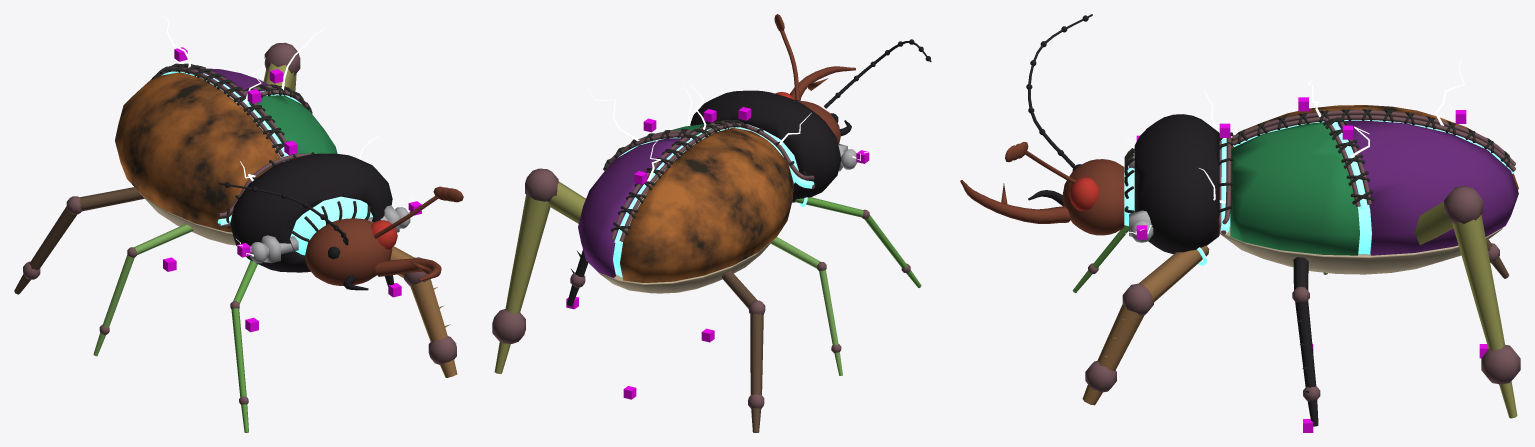
File: 02_franken_scarabeo.glb
3 views of the same model, side by side, from view 1: azimuth 30°, elevation 25°; view 2: azimuth 150°, elevation 25°; view 3: azimuth 270°, elevation 25° (orthographic). The views are drawn at different scales.
Parts seen in each view (by area): view 1: FrankenScarabeo__Elitra_Coccinella, FrankenScarabeo__Pronoto_Cervo, FrankenScarabeo__Testa, FrankenScarabeo__Cicatrici, FrankenScarabeo__Elitra_Smeraldo, FrankenScarabeo__Filo_Sutura, FrankenScarabeo__Zampa_Pelosa, FrankenScarabeo__Zampa_Talpa, FrankenScarabeo__Energia_Intrappolata, FrankenScarabeo__Bulloni, FrankenScarabeo__Zampa_Cavalletta, FrankenScarabeo__Zampa_Mantide (+7 smaller); view 2: FrankenScarabeo__Elitra_Coccinella, FrankenScarabeo__Pronoto_Cervo, FrankenScarabeo__Elitra_Viola, FrankenScarabeo__Cicatrici, FrankenScarabeo__Zampa_Saltatrice, FrankenScarabeo__Zampa_Pelosa, FrankenScarabeo__Ventre_Larva, FrankenScarabeo__Filo_Sutura, FrankenScarabeo__Testa, FrankenScarabeo__Zampa_Cavalletta, FrankenScarabeo__Zampa_Mantide, FrankenScarabeo__Zampa_Nera (+3 smaller); view 3: FrankenScarabeo__Elitra_Smeraldo, FrankenScarabeo__Elitra_Viola, FrankenScarabeo__Pronoto_Cervo, FrankenScarabeo__Cicatrici, FrankenScarabeo__Testa, FrankenScarabeo__Zampa_Saltatrice, FrankenScarabeo__Ventre_Larva, FrankenScarabeo__Zampa_Talpa, FrankenScarabeo__Zampa_Nera, FrankenScarabeo__Filo_Sutura, FrankenScarabeo__Energia_Fessure, FrankenScarabeo__Energia_Intrappolata (+4 smaller).
Part boxes in pixels (box(x1,y1,x2,y2)): FrankenScarabeo__Elitra_Coccinella: box(115, 72, 282, 232); FrankenScarabeo__Pronoto_Cervo: box(230, 153, 392, 290); FrankenScarabeo__Testa: box(305, 186, 463, 285); FrankenScarabeo__Cicatrici: box(23, 42, 456, 404); FrankenScarabeo__Elitra_Smeraldo: box(249, 95, 337, 154); FrankenScarabeo__Filo_Sutura: box(151, 63, 380, 241); FrankenScarabeo__Zampa_Pelosa: box(14, 187, 144, 294); FrankenScarabeo__Zampa_Talpa: box(390, 246, 457, 377); FrankenScarabeo__Energia_Intrappolata: box(249, 122, 372, 264); FrankenScarabeo__Bulloni: box(250, 205, 410, 263); FrankenScarabeo__Zampa_Cavalletta: box(93, 224, 193, 356); FrankenScarabeo__Zampa_Mantide: box(231, 260, 257, 432); FrankenScarabeo__Elitra_Coccinella: box(620, 128, 794, 282); FrankenScarabeo__Pronoto_Cervo: box(690, 90, 851, 202); FrankenScarabeo__Elitra_Viola: box(578, 138, 689, 277); FrankenScarabeo__Cicatrici: box(492, 121, 910, 408); FrankenScarabeo__Zampa_Saltatrice: box(494, 181, 585, 373); FrankenScarabeo__Zampa_Pelosa: box(722, 271, 763, 432); FrankenScarabeo__Ventre_Larva: box(589, 239, 773, 293); FrankenScarabeo__Filo_Sutura: box(604, 119, 808, 235); FrankenScarabeo__Testa: box(774, 14, 855, 143); FrankenScarabeo__Zampa_Cavalletta: box(771, 237, 842, 375); FrankenScarabeo__Zampa_Mantide: box(794, 197, 921, 287); FrankenScarabeo__Zampa_Nera: box(567, 39, 931, 306); FrankenScarabeo__Elitra_Smeraldo: box(1230, 122, 1359, 255); FrankenScarabeo__Elitra_Viola: box(1338, 120, 1518, 255); FrankenScarabeo__Pronoto_Cervo: box(1028, 114, 1219, 254); FrankenScarabeo__Cicatrici: box(1085, 110, 1520, 401); FrankenScarabeo__Testa: box(960, 142, 1124, 235); FrankenScarabeo__Zampa_Saltatrice: box(1414, 201, 1517, 418); FrankenScarabeo__Ventre_Larva: box(1219, 226, 1502, 274); FrankenScarabeo__Zampa_Talpa: box(1082, 245, 1209, 405); FrankenScarabeo__Zampa_Nera: box(1026, 14, 1318, 426); FrankenScarabeo__Filo_Sutura: box(1124, 109, 1509, 213); FrankenScarabeo__Energia_Fessure: box(1220, 120, 1515, 233); FrankenScarabeo__Energia_Intrappolata: box(1124, 124, 1371, 265).
Size of the model in its own units: 3.13 by 2.69 by 4.75.
21 materials, 1 textured.
